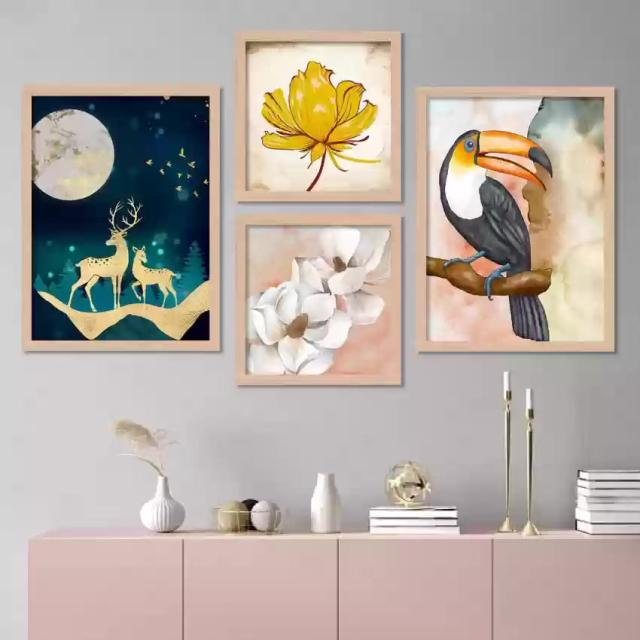painting: (23, 81, 221, 354), (416, 86, 614, 358), (235, 30, 402, 199), (237, 218, 404, 387)
